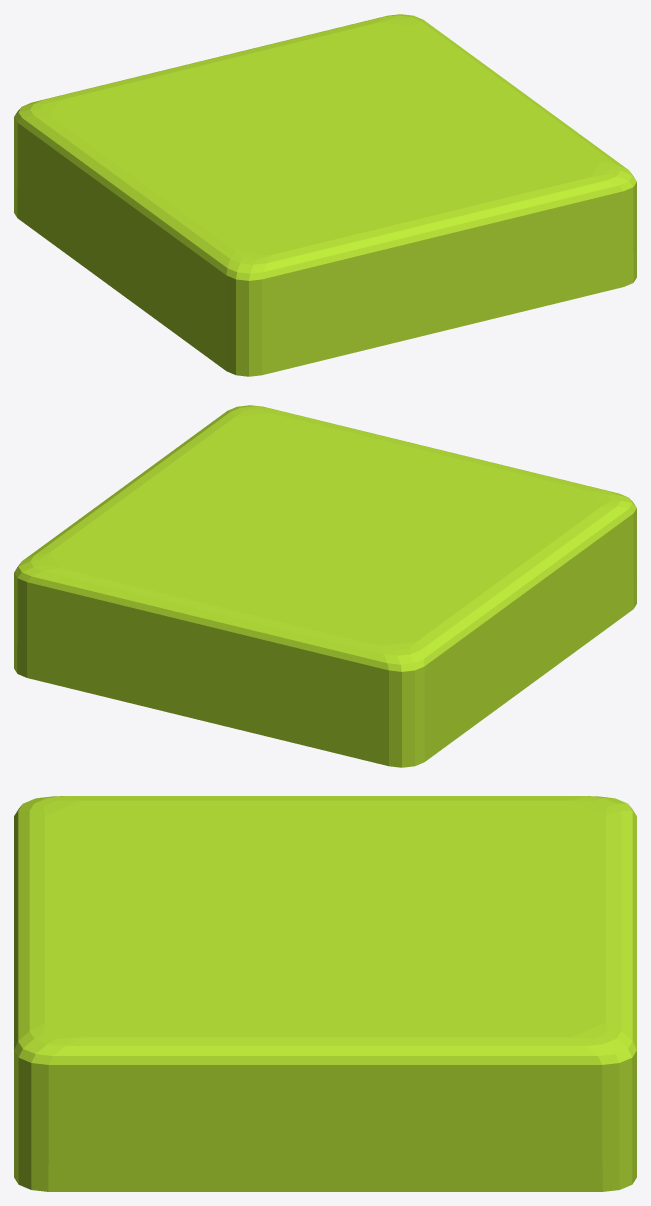
Rendered from Top.fbx.
3 renders of one model, top to bottom at view 1: azimuth 30°, elevation 25°; view 2: azimuth 150°, elevation 25°; view 3: azimuth 270°, elevation 25°, orthographic. The views are drawn at different scales.
Visible parts, largest first — view 1: Top; view 2: Top; view 3: Top.
Part boxes in pixels (x1,y1,x2,y2): Top: [14, 14, 636, 376]; Top: [14, 405, 636, 767]; Top: [14, 796, 636, 1191].
Bounding box in the file's own units: 100 × 25 × 100.
